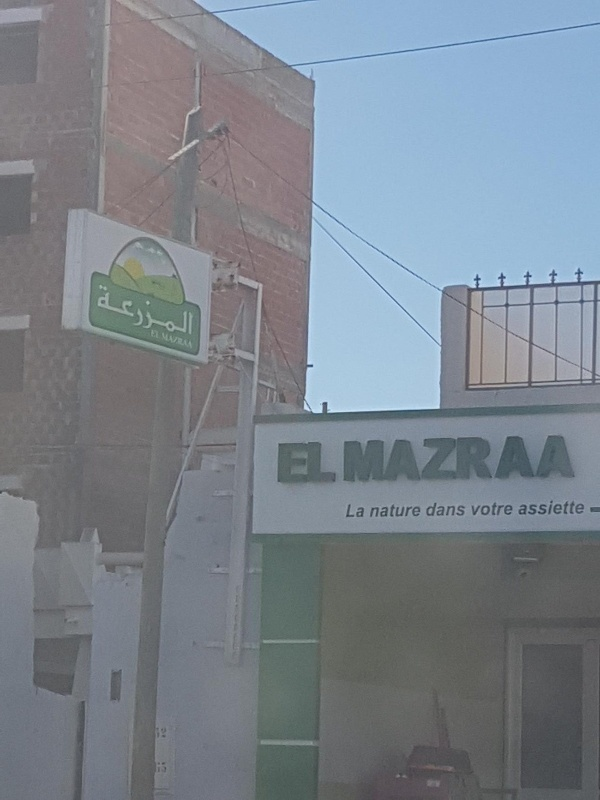text: (97, 284, 112, 339), (113, 284, 128, 339), (129, 284, 144, 339), (145, 284, 160, 339), (161, 284, 176, 339), (177, 284, 192, 339), (353, 434, 368, 483), (369, 434, 384, 483), (385, 434, 400, 483), (401, 434, 416, 483), (417, 434, 432, 483), (433, 434, 448, 483), (449, 434, 464, 483), (465, 434, 480, 483), (481, 434, 496, 483), (497, 434, 512, 483), (513, 434, 528, 483), (529, 434, 544, 483), (545, 434, 560, 483), (561, 434, 576, 483), (289, 442, 304, 484), (305, 442, 320, 484), (321, 442, 336, 484), (277, 442, 288, 484), (344, 434, 352, 483), (177, 328, 193, 351), (161, 328, 176, 351), (497, 502, 513, 517), (433, 502, 448, 517), (449, 502, 464, 517), (481, 502, 496, 517), (529, 500, 544, 515), (545, 500, 560, 515), (561, 500, 576, 515), (385, 503, 400, 517), (401, 503, 416, 517), (151, 328, 160, 351), (353, 504, 365, 518), (372, 503, 384, 517), (518, 500, 528, 515), (577, 500, 586, 515), (94, 284, 96, 339), (193, 284, 195, 339), (474, 502, 480, 517), (161, 728, 169, 739), (161, 762, 168, 773), (427, 502, 432, 517), (417, 503, 421, 517), (349, 504, 352, 518), (157, 728, 160, 739), (157, 762, 160, 773), (465, 502, 467, 517)
